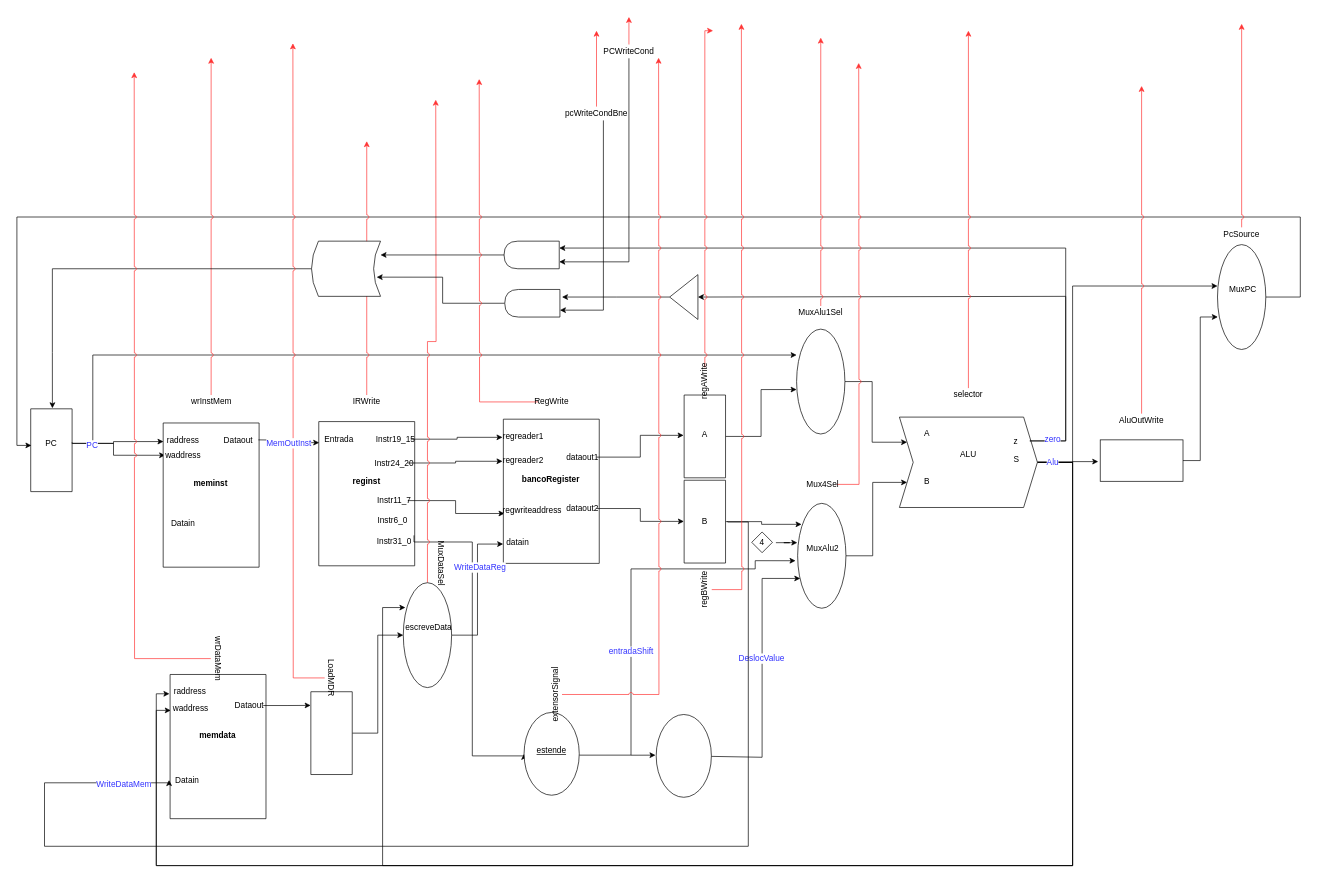
Some shapes in this 1318 by 883 pixel diagram are drawn without their labels. The shapes that lost their labels are listed below. From the top down, each one's centre as x and y in pixels, then its label:
point 820,381: MuxAlu1
point 1141,460: SaidaAlu
point 331,733: MDR
point 683,755: shift
